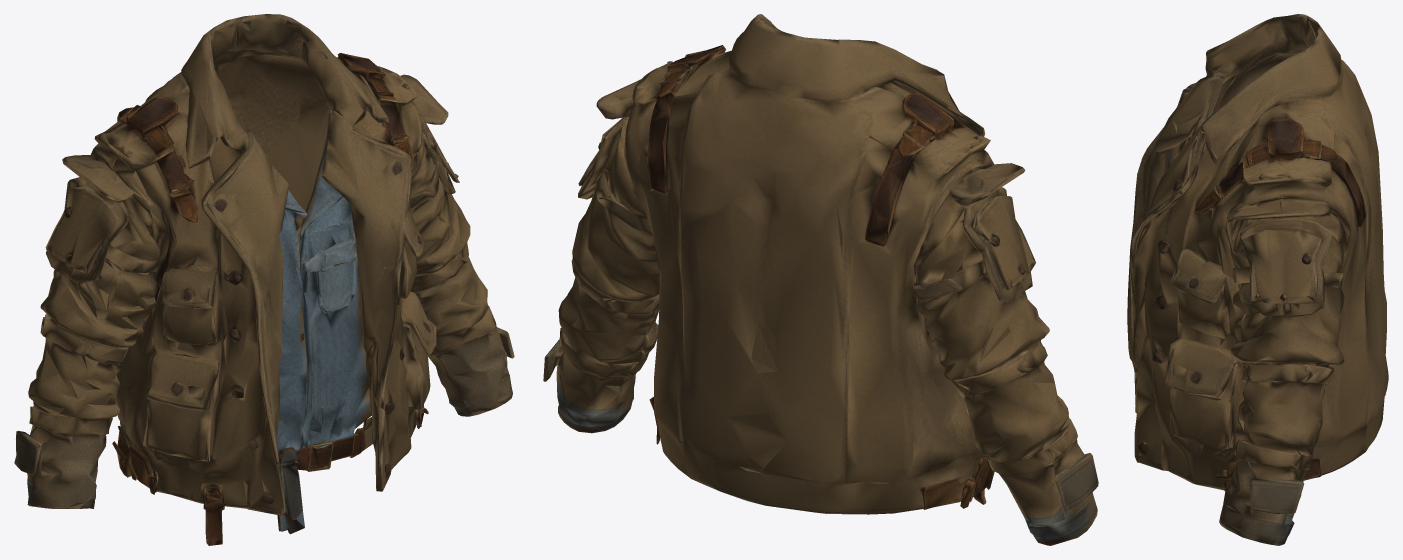
The model's file is chest_02.glb.
3 renders of one model, left to right at view 1: azimuth 30°, elevation 25°; view 2: azimuth 150°, elevation 25°; view 3: azimuth 270°, elevation 25°, orthographic. The views are drawn at different scales.
Visible parts, largest first — view 1: mesh_node; view 2: mesh_node; view 3: mesh_node.
Part boxes in pixels (x1,y1,x2,y2): mesh_node: [14, 14, 514, 545]; mesh_node: [543, 14, 1098, 545]; mesh_node: [1127, 14, 1388, 545].
Size of the model in its own units: 0.7848 by 0.7 by 0.3778.
1 material, 1 textured.
